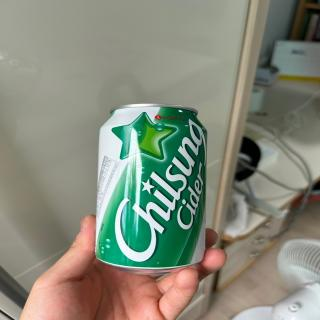cocacola: (91, 101, 209, 277)
